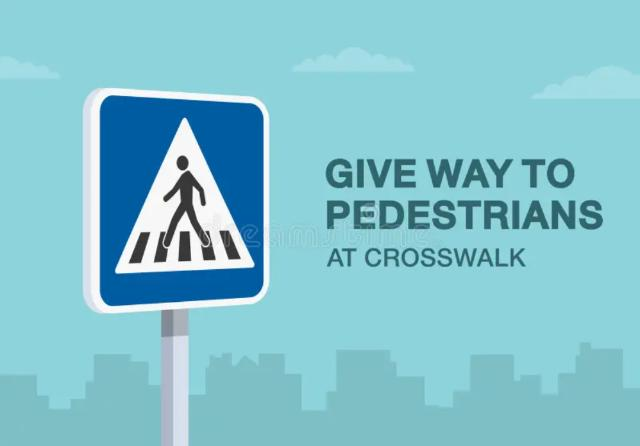crosswalk-sign: (84, 88, 271, 314)
